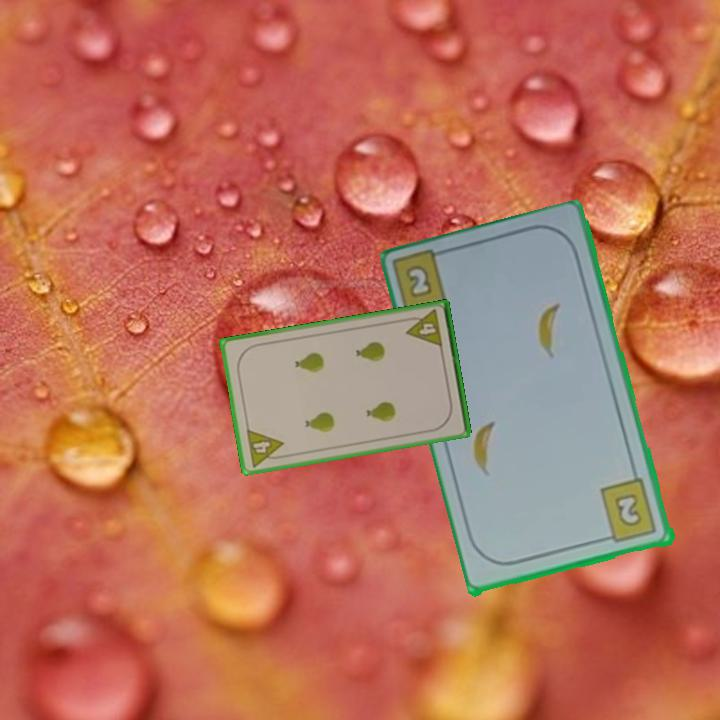2b: (597, 476, 660, 546), (402, 261, 436, 301)
4p: (243, 425, 288, 470), (401, 306, 445, 350)
